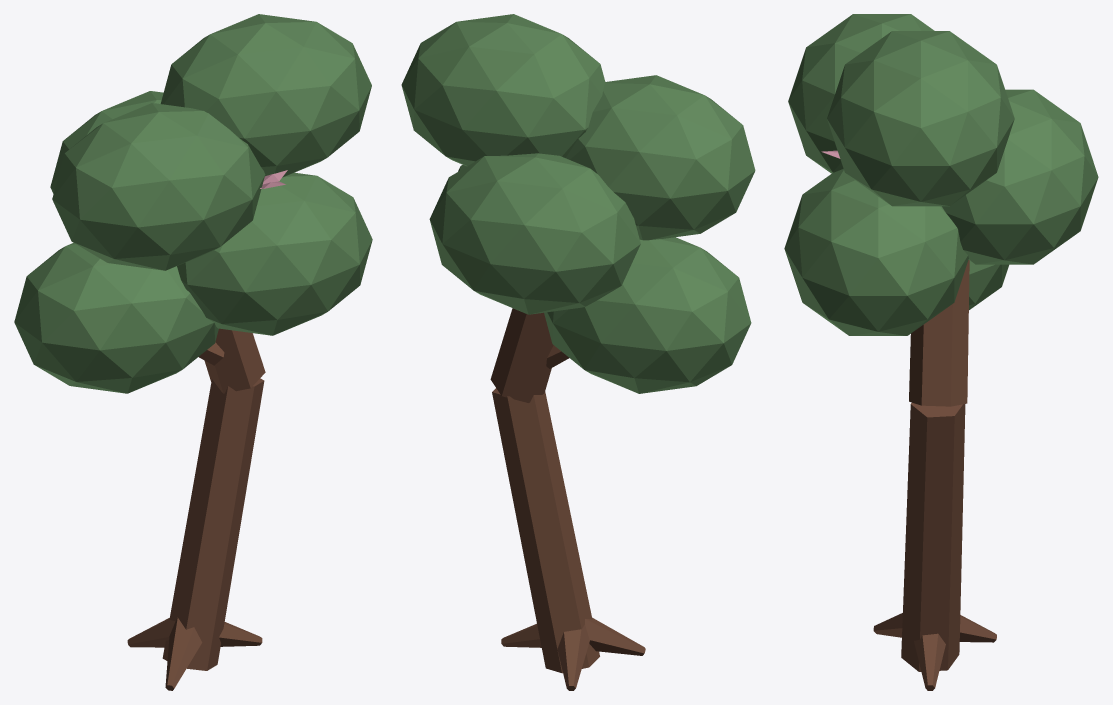
The model's file is map-boundaries-v5__village_09.glb.
3 views of the same model, side by side, from view 1: azimuth 30°, elevation 25°; view 2: azimuth 150°, elevation 25°; view 3: azimuth 270°, elevation 25° (orthographic). The views are drawn at different scales.
Parts seen in each view (by area): view 1: village_09; view 2: village_09; view 3: village_09.
Boxes of the visible parts, <box> form: village_09: <box>14,14,372,690</box>; village_09: <box>401,14,755,690</box>; village_09: <box>784,14,1098,690</box>.
Size of the model in its own units: 2.02 by 3.7 by 1.61.
